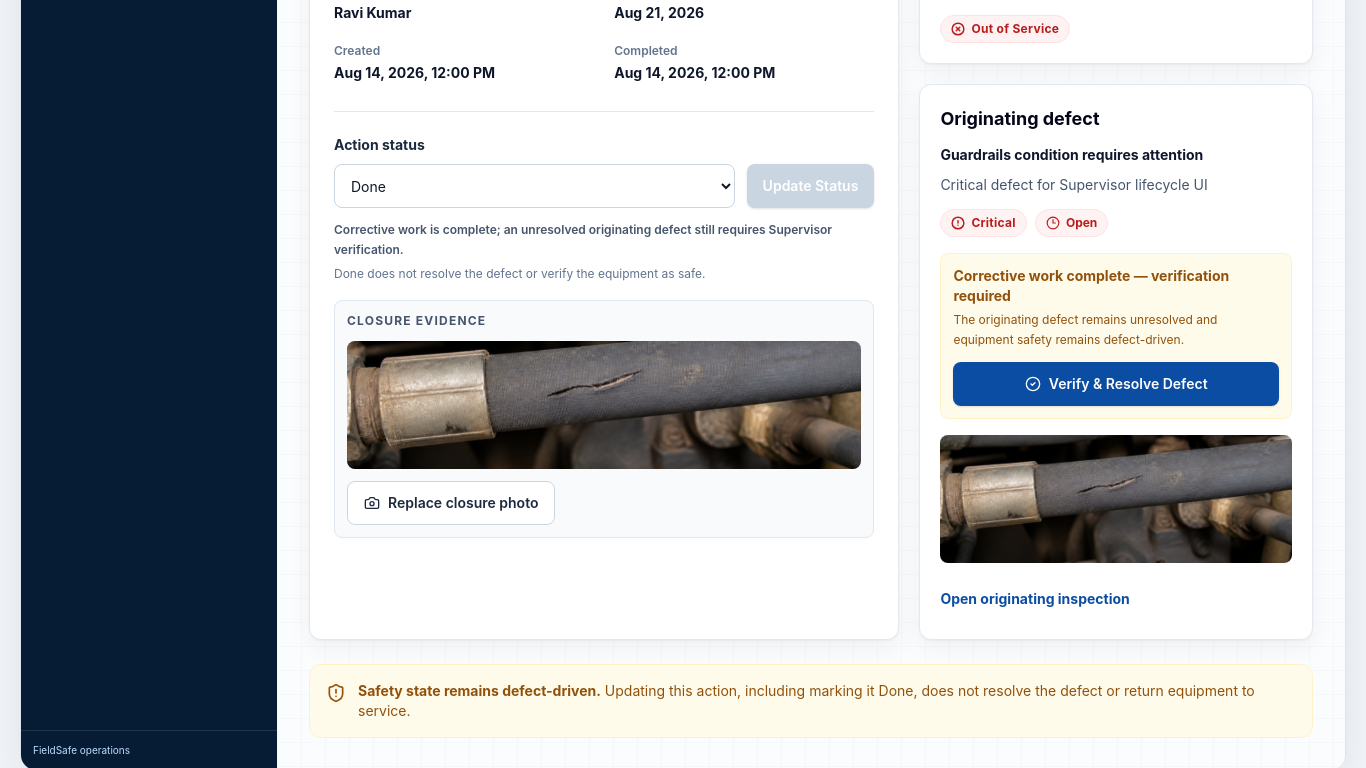
Test: Supervisor lifecycle UI › requires confirmation before verifying completed remediation
(page scrolled)
Click the button "Verify & Resolve Defect": (1116, 384) [953, 362, 1279, 406]
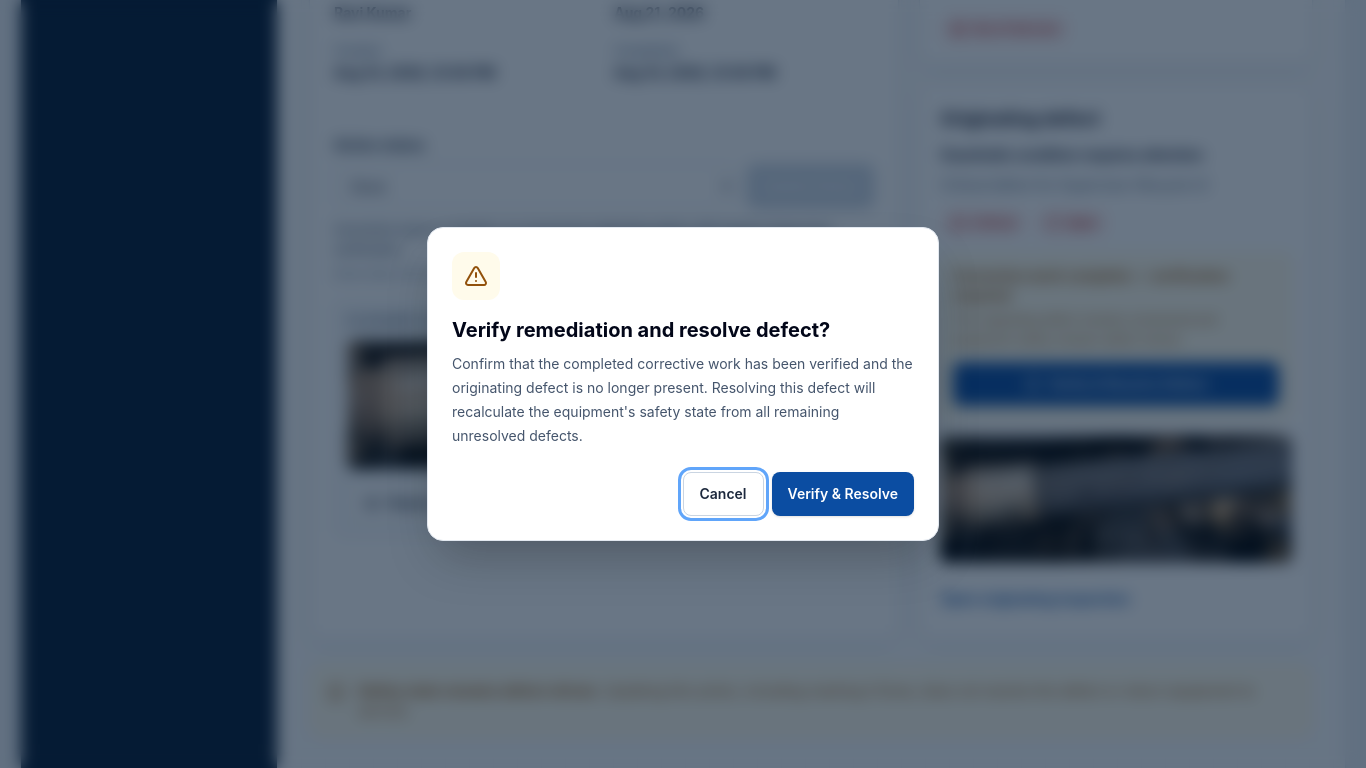
Now the text "Resolving this defect will recalculate the equipment's safety state" is shown, box [452, 355, 913, 444]
Click the button "Cancel": (723, 494) [682, 472, 764, 516]
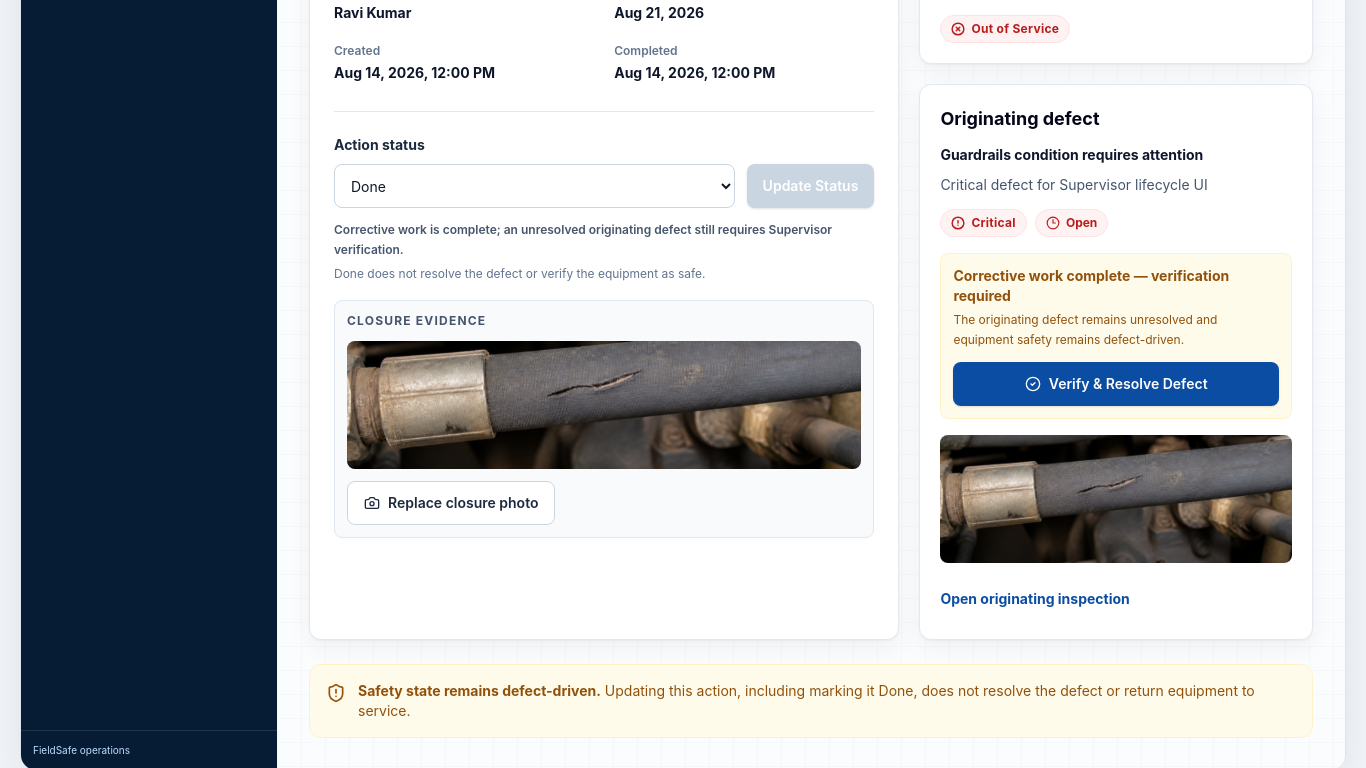
Expected: the element showing "Out of Service" is shown, [940, 15, 1070, 43]
Click the button "Verify & Resolve Defect": (1116, 384) [953, 362, 1279, 406]
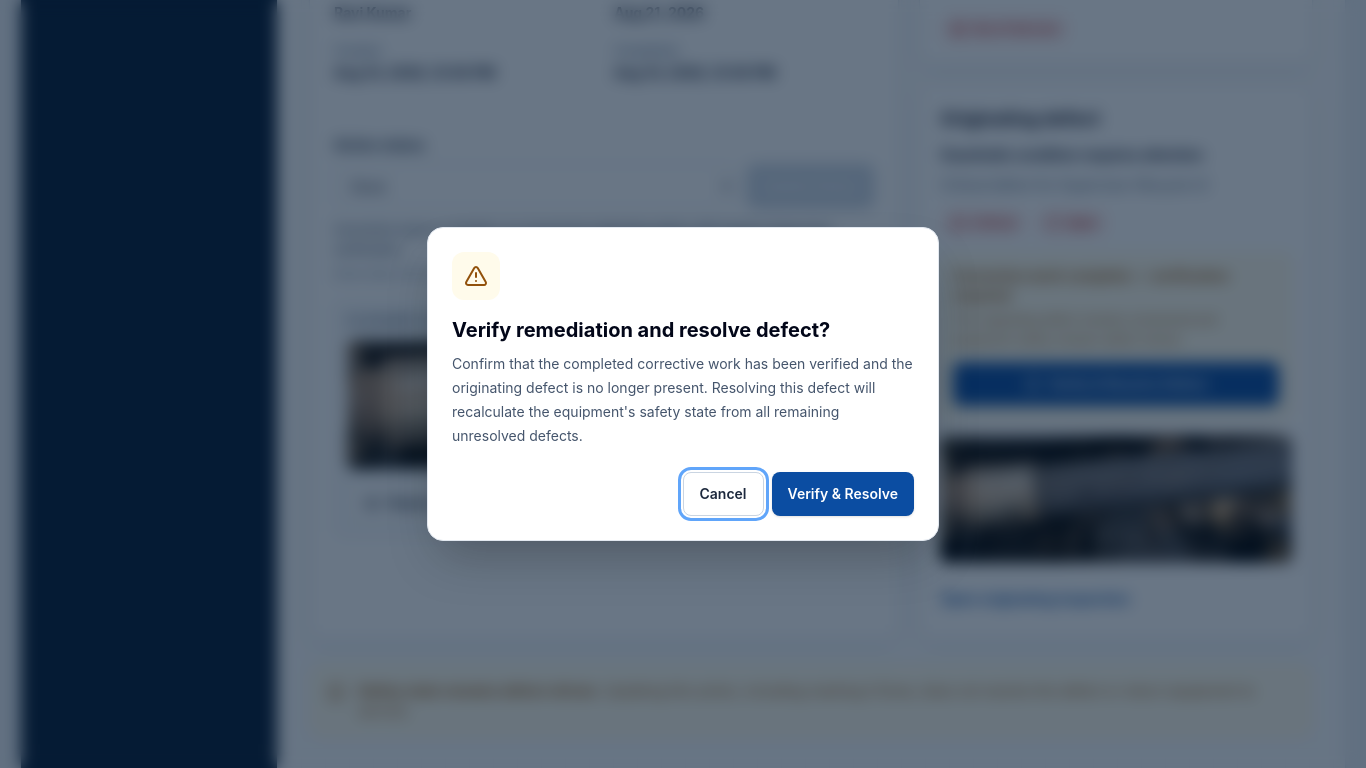
Click the button "Verify & Resolve": (843, 494) [772, 472, 914, 516]
(page scrolled)
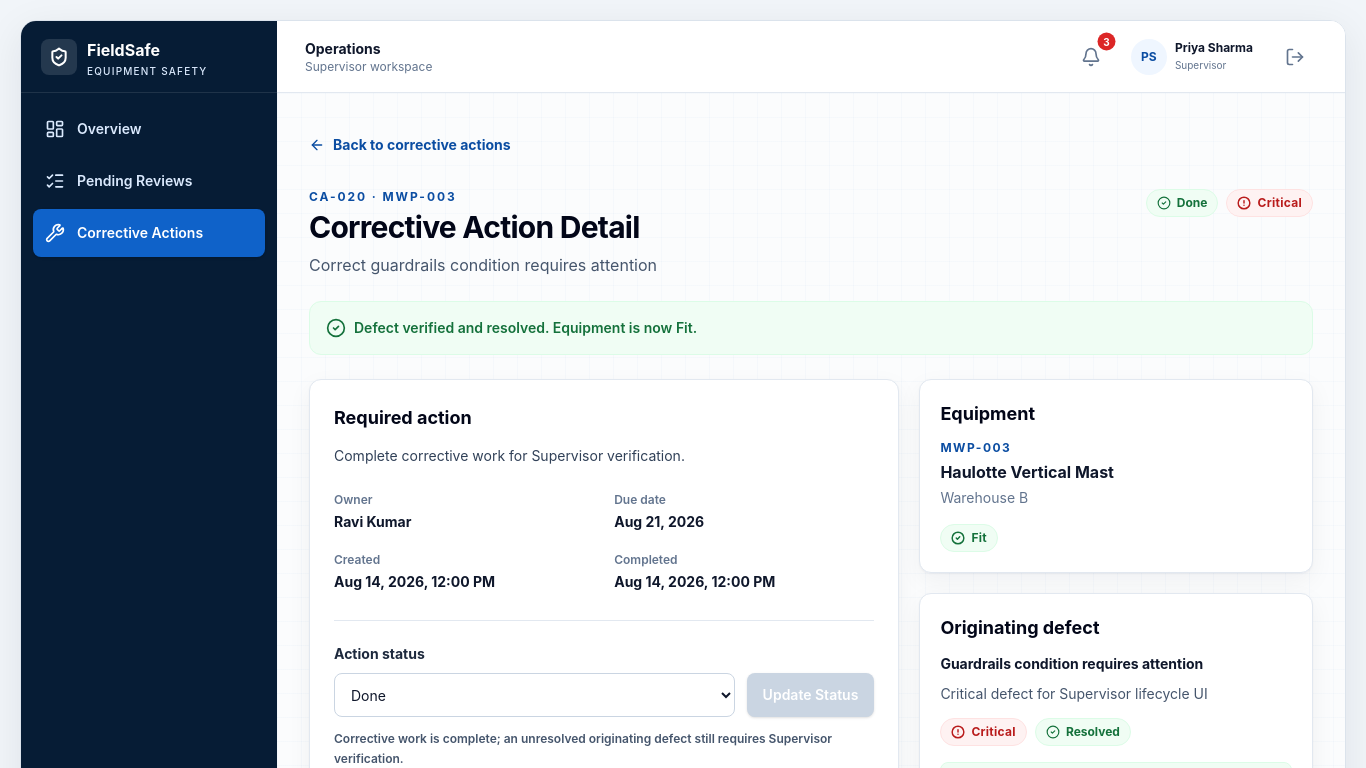
Now the text "Defect verified and resolved. Equipment is now Fit." is shown, box [309, 301, 1313, 355]
